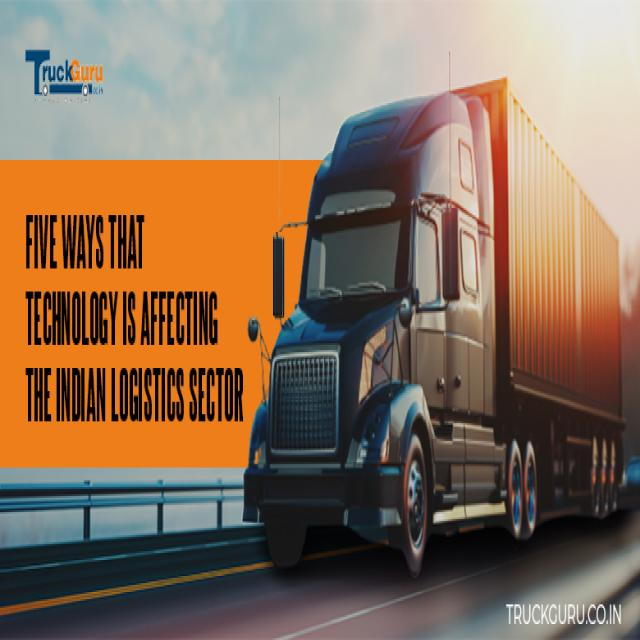truck: (244, 87, 622, 573), (274, 233, 283, 316)
